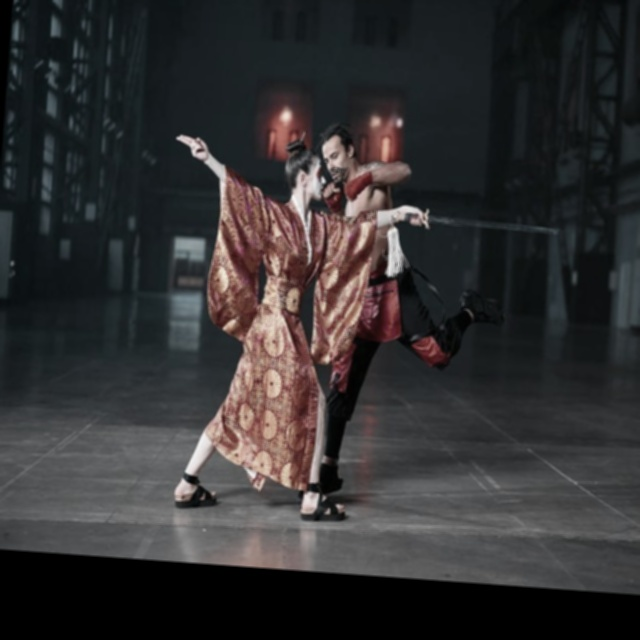Sharp-Object: (391, 208, 562, 243)
